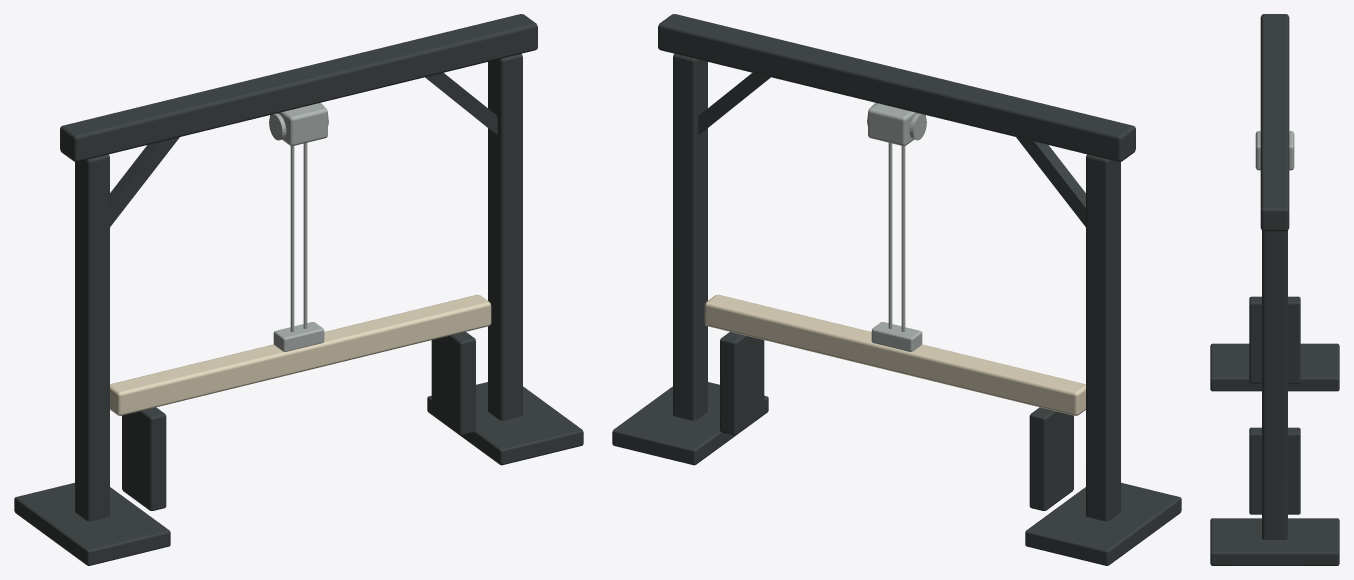
The model's file is canal-boats-and-lock-operations-canal-boats-and-lock-o-a5353342__31658.glb.
3 views of the same model, side by side, from view 1: azimuth 30°, elevation 25°; view 2: azimuth 150°, elevation 25°; view 3: azimuth 270°, elevation 25° (orthographic). The views are drawn at different scales.
Parts seen in each view (by area): view 1: canal-boats-and-lock-operations-stop-plank-lifting-frame; view 2: canal-boats-and-lock-operations-stop-plank-lifting-frame; view 3: canal-boats-and-lock-operations-stop-plank-lifting-frame.
Boxes of the visible parts, x1=… form: canal-boats-and-lock-operations-stop-plank-lifting-frame: x1=14, y1=14, x2=583, y2=565; canal-boats-and-lock-operations-stop-plank-lifting-frame: x1=612, y1=14, x2=1181, y2=565; canal-boats-and-lock-operations-stop-plank-lifting-frame: x1=1210, y1=14, x2=1339, y2=565.
Bounding box in the file's own units: 3.85 × 3 × 1.
